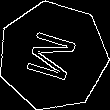M_E: (22, 27, 84, 85)
